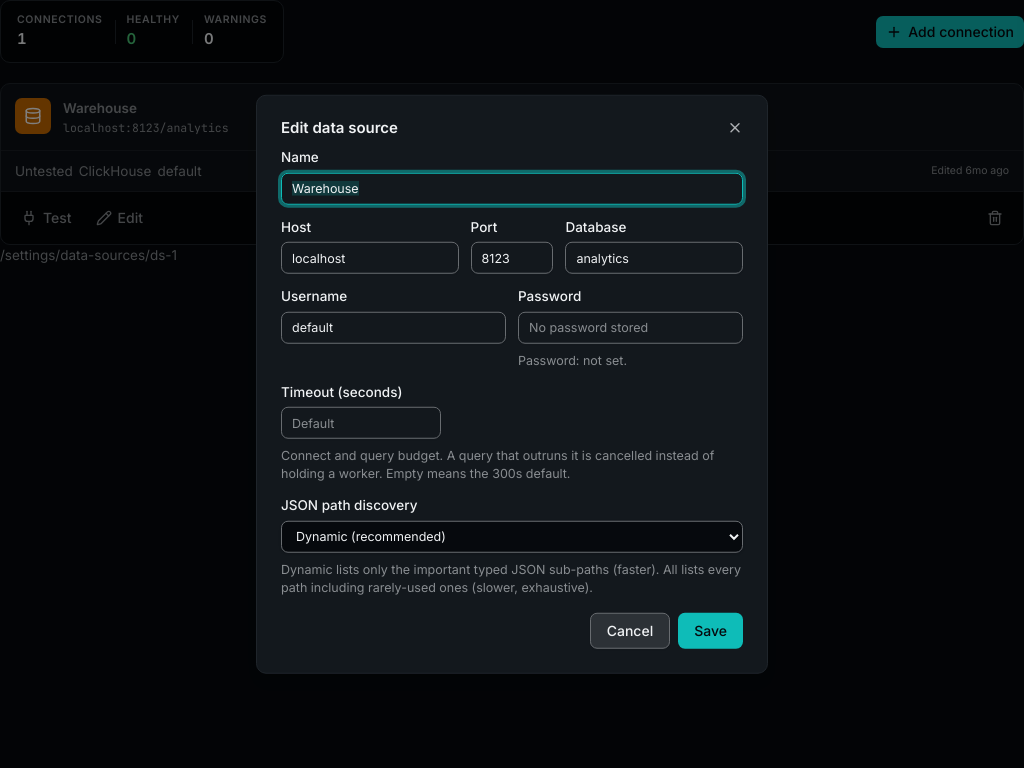
Test: DataSourcesPage › closes a directly opened edit dialog on cancel
Check: the dialog "Edit data source" is shown, box left=256, top=95, right=768, bottom=673
What coordinates should you click on to do the following:
click the button "Cancel"
I would click on:
 (630, 630)
Its box is left=590, top=612, right=670, bottom=648.
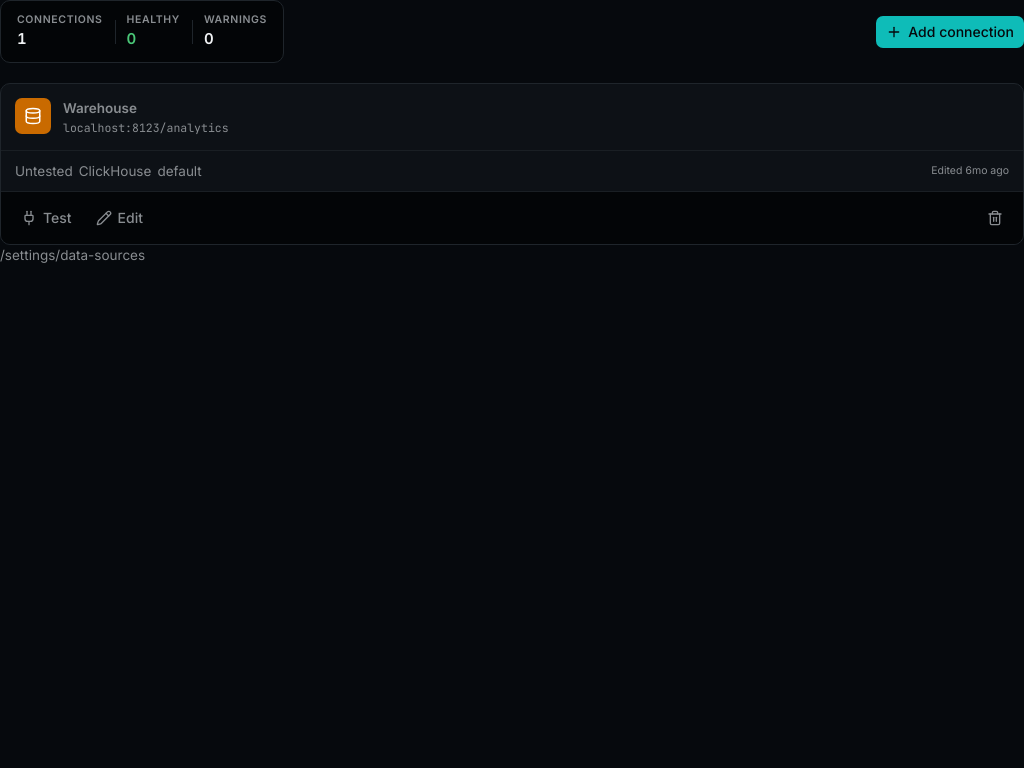
Check: the heading "Edit data source" is gone
Check: the text with test id "location" reads "/settings/data-sources", box left=0, top=247, right=145, bottom=263
